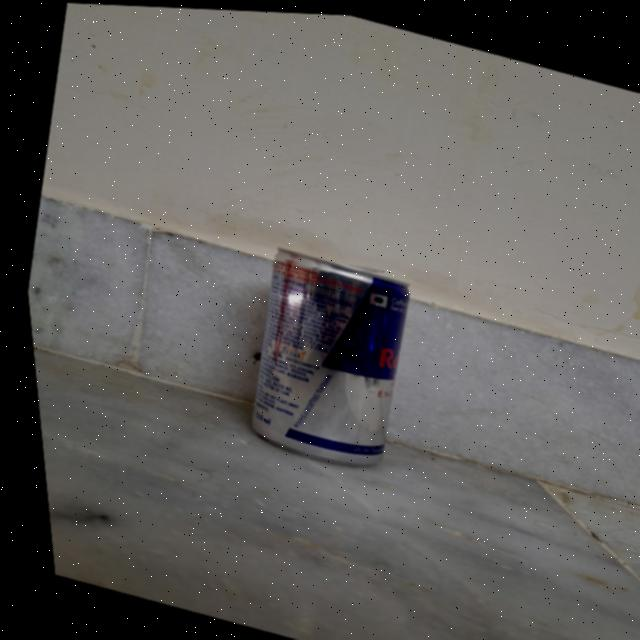Redbul: (210, 233, 425, 474)
